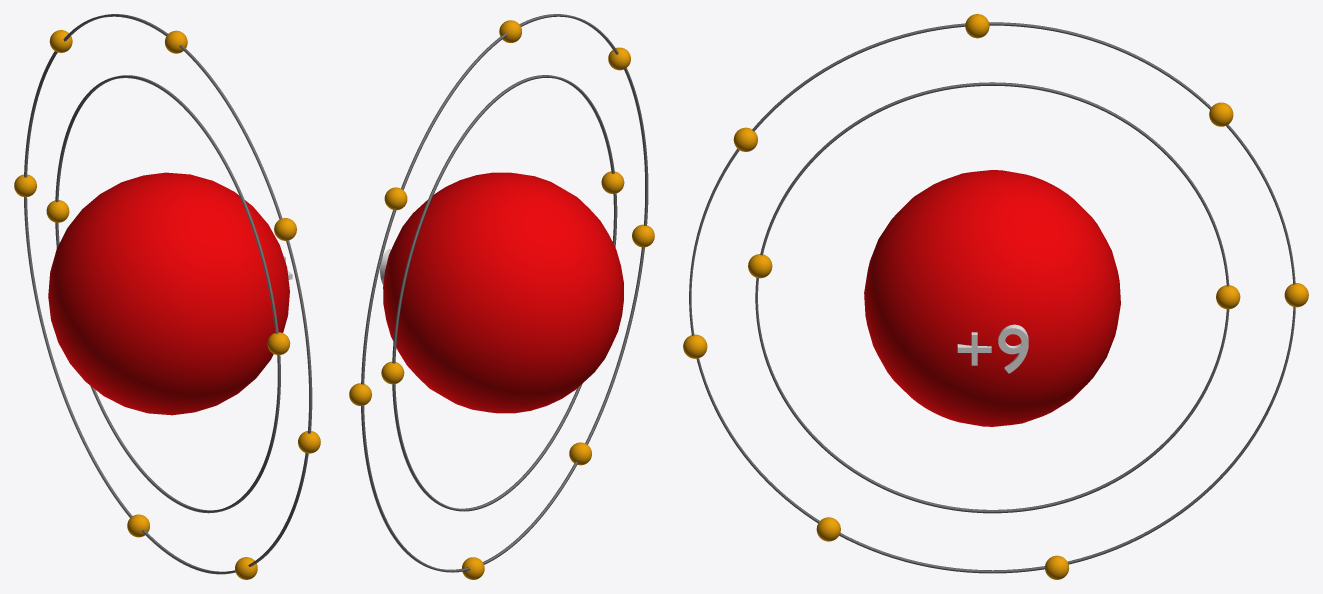
The model's file is FlAtom.fbx.
3 renders of one model, left to right at view 1: azimuth 30°, elevation 25°; view 2: azimuth 150°, elevation 25°; view 3: azimuth 270°, elevation 25°, orthographic. The views are drawn at different scales.
Parts seen in each view (by area): view 1: central, 2.circle, 1.circle, Sphere.006, Sphere, Sphere.001, Sphere.005, Sphere.002, Sphere.009, Sphere.004, Sphere.007, Sphere.008; view 2: central, 2.circle, 1.circle, Sphere.008, Sphere.001, Sphere.002, Sphere.005, Sphere, Sphere.004, Sphere.006, Sphere.009, Sphere.007; view 3: central, 2.circle, 1.circle, Text.
Part boxes in pixels (<box>): central: <box>48,172,289,415</box>; 2.circle: <box>24,14,312,574</box>; 1.circle: <box>55,75,280,513</box>; Sphere.006: <box>274,218,296,240</box>; Sphere: <box>267,332,290,355</box>; Sphere.001: <box>46,200,69,222</box>; Sphere.005: <box>298,431,320,453</box>; Sphere.002: <box>14,174,36,197</box>; Sphere.009: <box>127,514,149,537</box>; Sphere.004: <box>235,557,257,579</box>; Sphere.007: <box>165,30,187,53</box>; Sphere.008: <box>49,30,72,52</box>; central: <box>383,172,623,413</box>; 2.circle: <box>361,14,648,572</box>; 1.circle: <box>392,75,617,511</box>; Sphere.008: <box>384,187,407,210</box>; Sphere.001: <box>381,361,404,384</box>; Sphere.002: <box>349,383,371,405</box>; Sphere.005: <box>632,224,654,247</box>; Sphere: <box>601,171,624,193</box>; Sphere.004: <box>569,442,591,465</box>; Sphere.006: <box>608,47,630,70</box>; Sphere.009: <box>462,557,484,579</box>; Sphere.007: <box>499,20,521,42</box>; central: <box>864,170,1120,426</box>; 2.circle: <box>689,22,1295,573</box>; 1.circle: <box>755,82,1229,513</box>; Text: <box>957,324,1028,373</box>.
Size of the model in its own units: 101 by 242 by 243.
